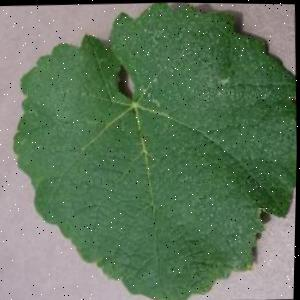Folha: (5, 0, 300, 300)
